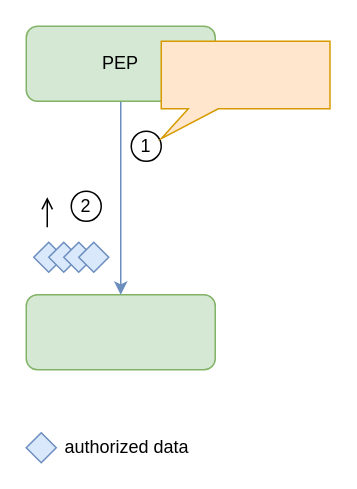
The diagram is 357 pixels wide and 489 high, and some of its shapes have lost their labels. The centre of each missing label's shape, as x and y in pixels:
"authorize" request: pixel 245 89
PDP: pixel 120 331
